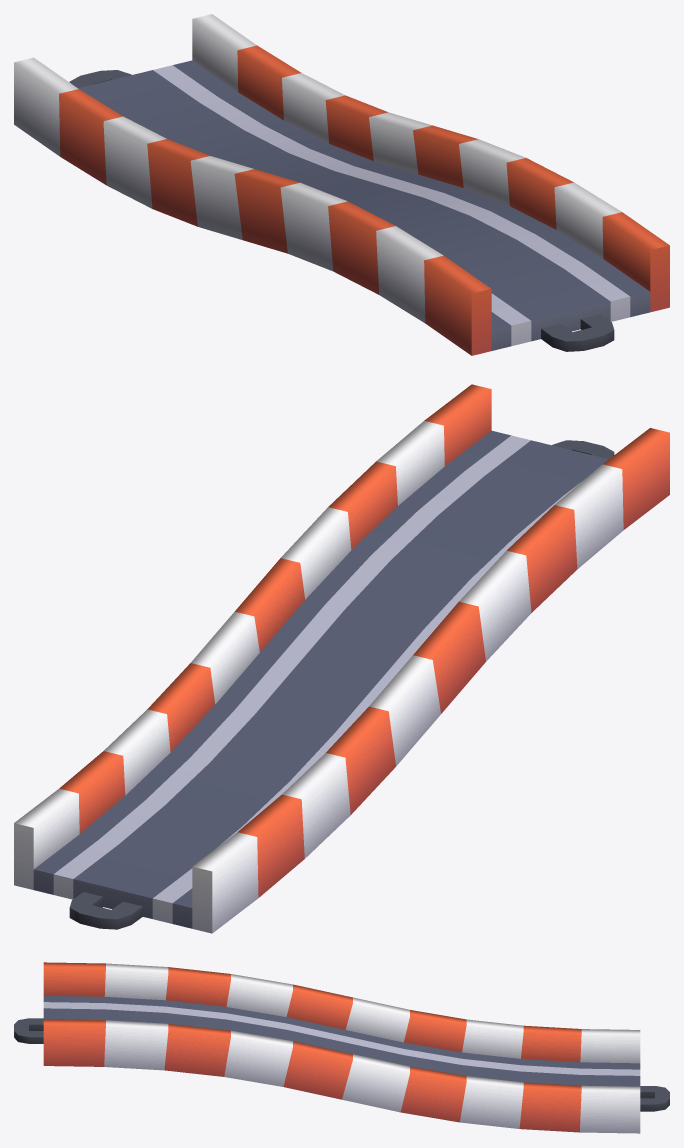
The model's file is track-road-narrow-straight-hill-complete-half.glb.
The picture shows the model from 3 angles, top to bottom: view 1: azimuth 30°, elevation 25°; view 2: azimuth 150°, elevation 25°; view 3: azimuth 270°, elevation 25°; orthographic projection. The views are drawn at different scales.
Parts seen in each view (by area): view 1: track-road-narrow-straight-hill-complete-half; view 2: track-road-narrow-straight-hill-complete-half; view 3: track-road-narrow-straight-hill-complete-half.
Part boxes in pixels (left/top/right/bottom): track-road-narrow-straight-hill-complete-half: left=14, top=14, right=669, bottom=355; track-road-narrow-straight-hill-complete-half: left=14, top=384, right=669, bottom=933; track-road-narrow-straight-hill-complete-half: left=14, top=962, right=669, bottom=1133.
Size of the model in its own units: 1 by 0.8 by 4.4.
1 material, 1 textured.
